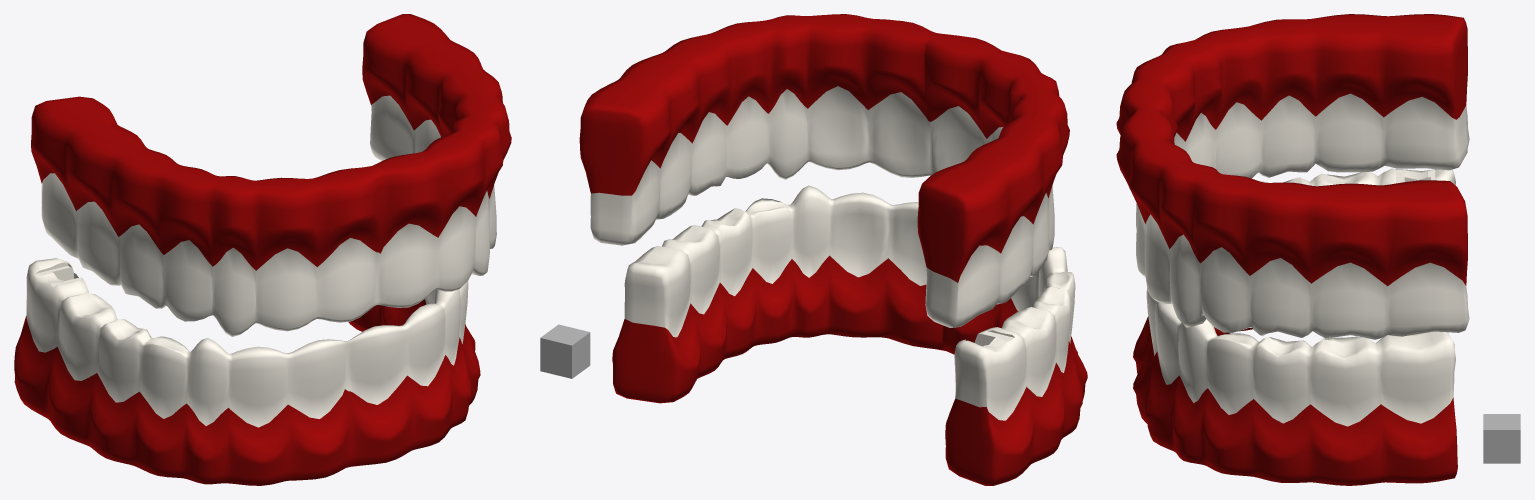
File: broken_thirdmolarL.fbx
3 renders of one model, left to right at view 1: azimuth 30°, elevation 25°; view 2: azimuth 150°, elevation 25°; view 3: azimuth 270°, elevation 25°, orthographic. The views are drawn at different scales.
Visible parts, largest first — view 1: TeethUpper, TeethLower; view 2: TeethUpper, TeethLower, Controller; view 3: TeethUpper, TeethLower, Controller.
Part boxes in pixels (x1,y1,x2,y2): TeethUpper: (31, 14, 511, 336); TeethLower: (14, 258, 480, 485); TeethUpper: (579, 14, 1069, 327); TeethLower: (612, 185, 1087, 485); Controller: (540, 324, 590, 378); TeethUpper: (1116, 14, 1469, 339); TeethLower: (1133, 168, 1457, 485); Controller: (1483, 414, 1520, 463).
Bounding box in the file's own units: 200 × 133 × 160.
